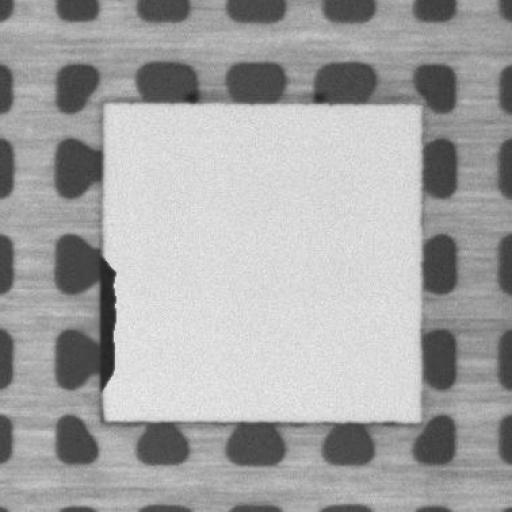DIE_BROKEN: (94, 257, 118, 389)
